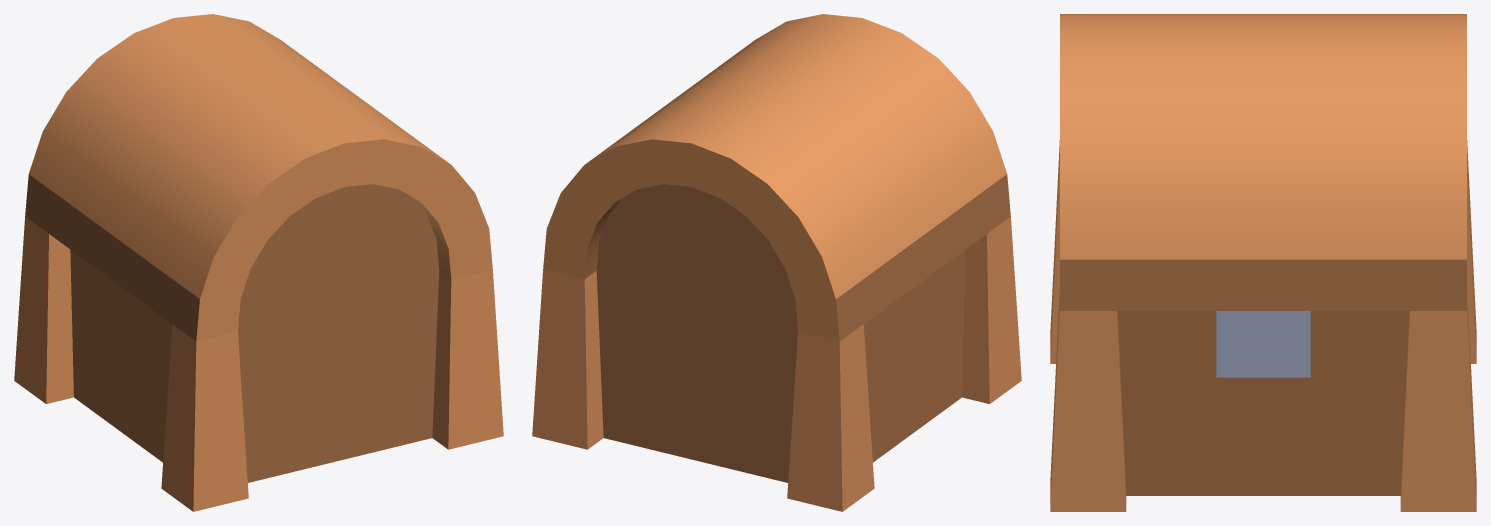
File: chest.dae
3 views of the same model, side by side, from view 1: azimuth 30°, elevation 25°; view 2: azimuth 150°, elevation 25°; view 3: azimuth 270°, elevation 25° (orthographic). The views are drawn at different scales.
Visible parts, largest first — view 1: lid, chest; view 2: lid, chest; view 3: lid, chest.
Part boxes in pixels (left/top/right/bottom): lid: left=25, top=14, right=492, bottom=341; chest: left=14, top=216, right=503, bottom=511; lid: left=543, top=14, right=1010, bottom=341; chest: left=532, top=216, right=1021, bottom=511; lid: left=1060, top=14, right=1466, bottom=310; chest: left=1050, top=140, right=1476, bottom=511.
Bounding box in the file's own units: 1.04 × 1.05 × 1.04.
